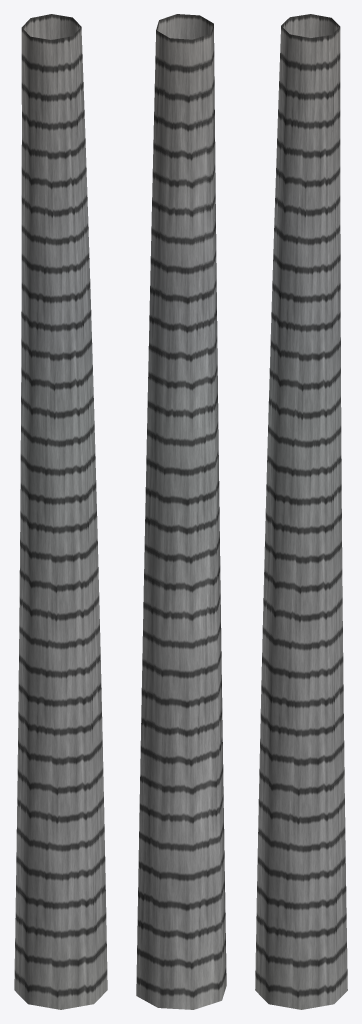
File: tree_fern_bark_l0.gltf
The picture shows the model from 3 angles, left to right: view 1: azimuth 90°, elevation 25°; view 2: azimuth 150°, elevation 25°; view 3: azimuth 270°, elevation 25°; orthographic projection.
Parts seen in each view (by area): view 1: tree_fern_bark_l0; view 2: tree_fern_bark_l0; view 3: tree_fern_bark_l0.
Boxes of the visible parts, left/top/right/bottom form: tree_fern_bark_l0: left=14, top=14, right=107, bottom=1009; tree_fern_bark_l0: left=136, top=14, right=226, bottom=1009; tree_fern_bark_l0: left=255, top=14, right=347, bottom=1009.
Size of the model in its own units: 0.35 by 4 by 0.35.
Materials: 1 (1 with a texture image).
